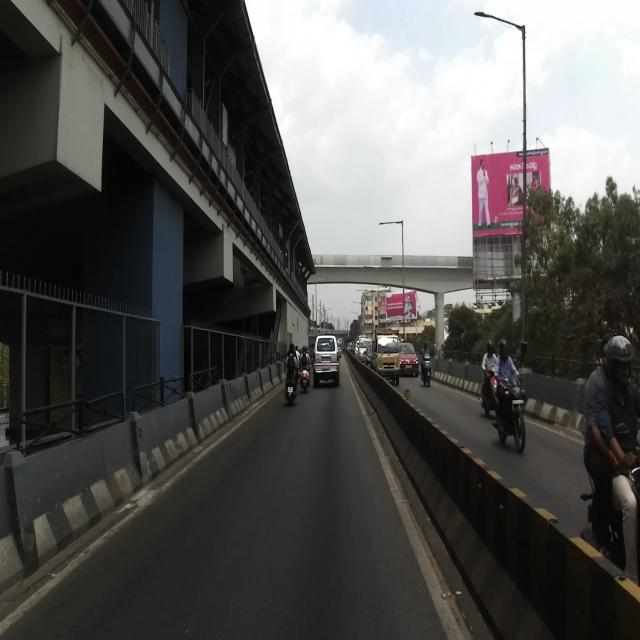Car_Chevrolet: (312, 333, 340, 386)
motorcycle_Honda: (490, 373, 528, 455)
scooter: (285, 364, 299, 404), (421, 350, 432, 386), (299, 359, 310, 390)
truck: (371, 328, 399, 385)
